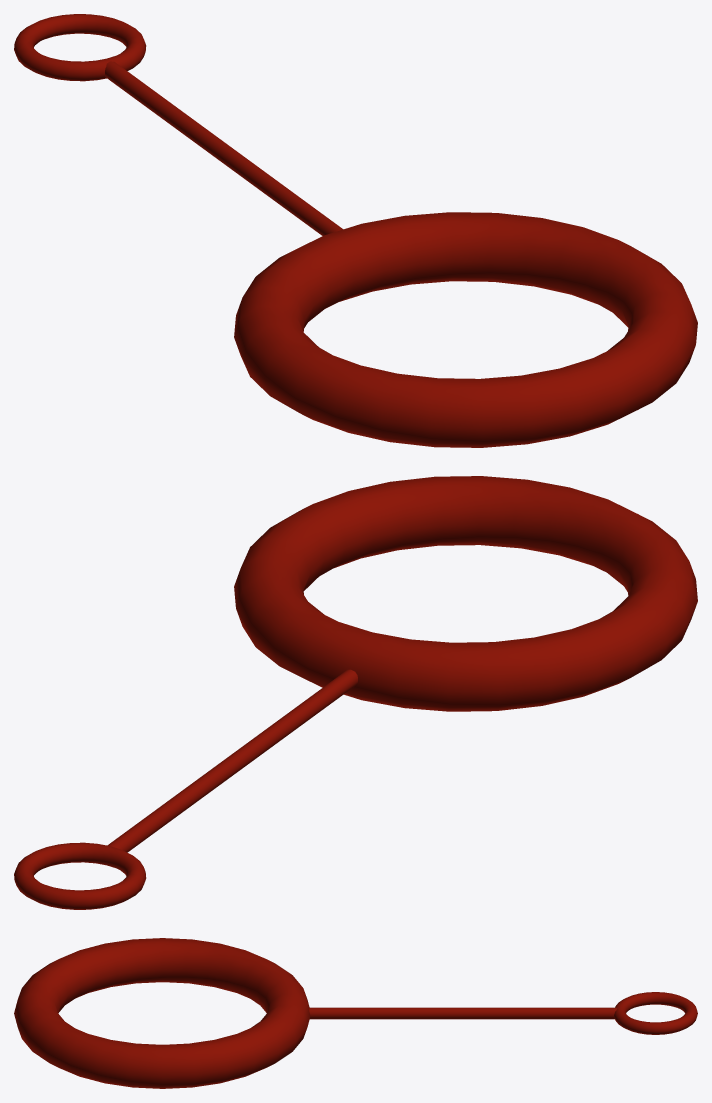
File: wand.fbx
The picture shows the model from 3 angles, top to bottom: view 1: azimuth 30°, elevation 25°; view 2: azimuth 150°, elevation 25°; view 3: azimuth 270°, elevation 25°; orthographic projection. The views are drawn at different scales.
Visible parts, largest first — view 1: wand_bubble_wand; view 2: wand_bubble_wand; view 3: wand_bubble_wand.
Boxes of the visible parts, bbox=[...] form: wand_bubble_wand: bbox=[14, 14, 697, 447]; wand_bubble_wand: bbox=[14, 476, 697, 909]; wand_bubble_wand: bbox=[14, 938, 697, 1088].
Size of the model in its own units: 58.8 by 8.37 by 135.
Materials: 1 (1 with a texture image).
